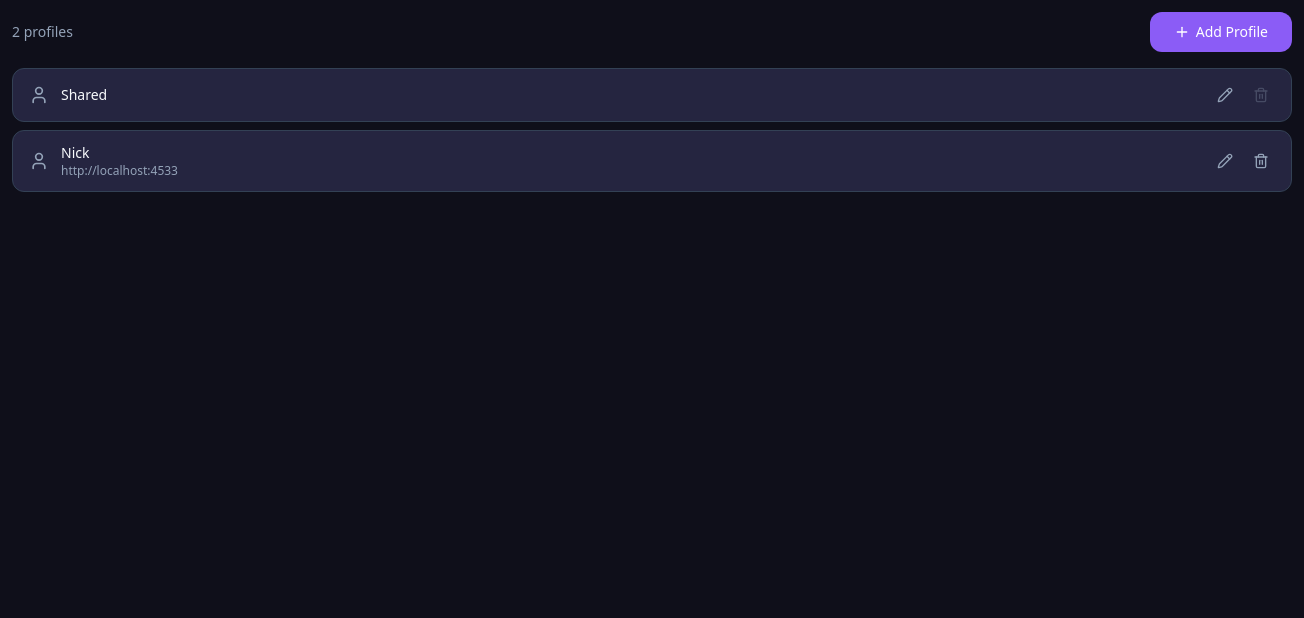
it: ProfilesTab › shows edit form with pre-filled values when Edit is clicked
This screenshot has width=1304, height=618.
Click the button named "edit nick" at (1225, 161), box [1211,147,1239,175]
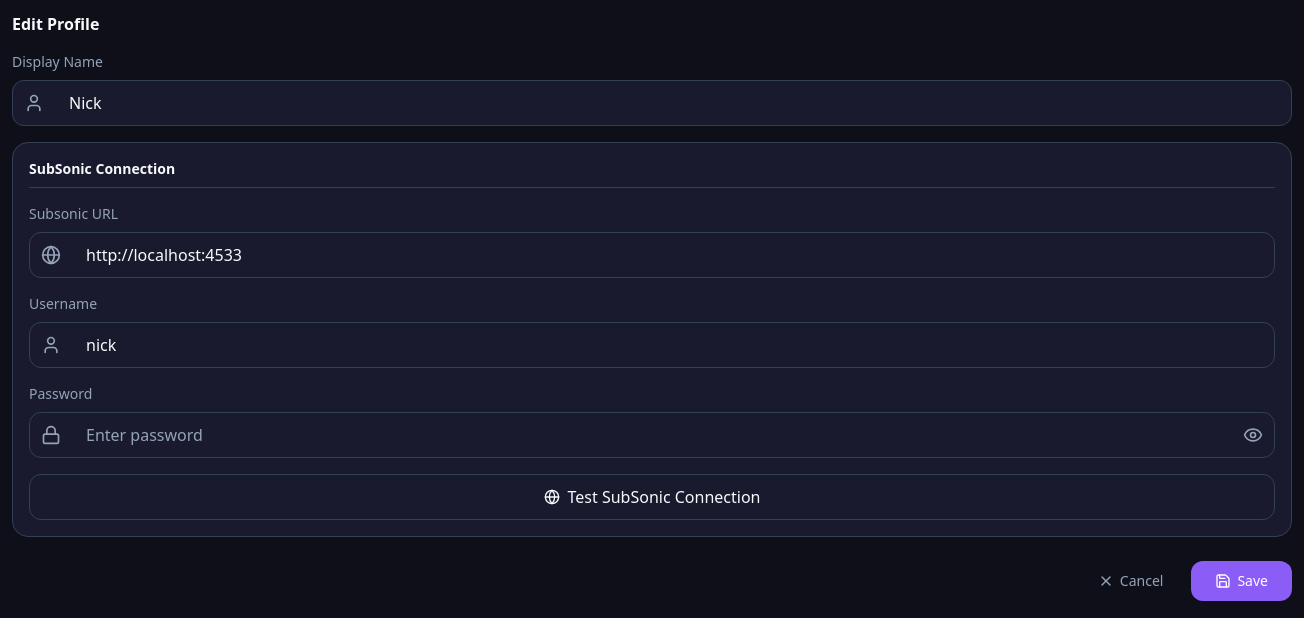
Check: the heading "Edit Profile" is shown, box [12,13,99,35]
Check: the field labelled "Display Name" holds "Nick", box [12,80,1292,126]
